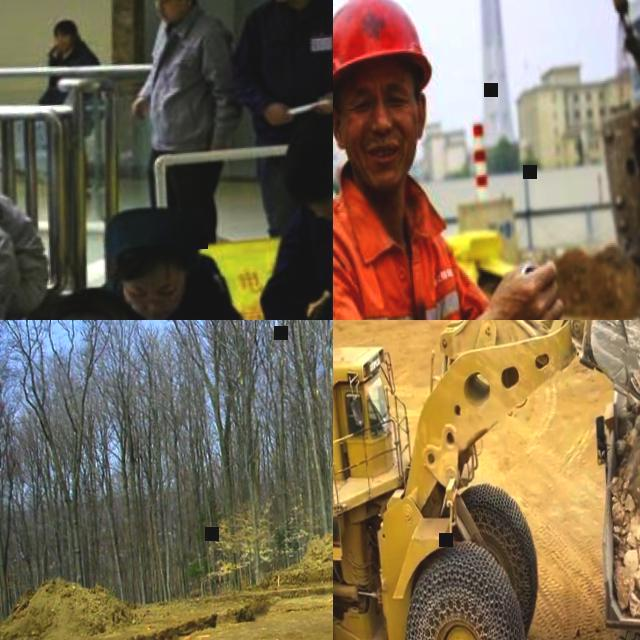helmet: (333, 0, 435, 105)
machinery: (333, 320, 640, 640), (568, 0, 640, 273)
no_helmet: (110, 214, 198, 272), (280, 113, 333, 202), (48, 281, 132, 320), (52, 17, 78, 33)
no_mask: (347, 123, 416, 189), (135, 298, 182, 320), (161, 0, 187, 23), (57, 36, 73, 48)
no_vest: (140, 13, 226, 150), (242, 0, 333, 120), (0, 180, 47, 277), (132, 277, 228, 320), (49, 48, 100, 94)
person: (333, 0, 623, 320), (119, 0, 252, 255), (224, 0, 333, 237), (95, 194, 285, 320), (32, 12, 112, 199), (0, 124, 55, 320)
vest: (333, 149, 482, 320)
